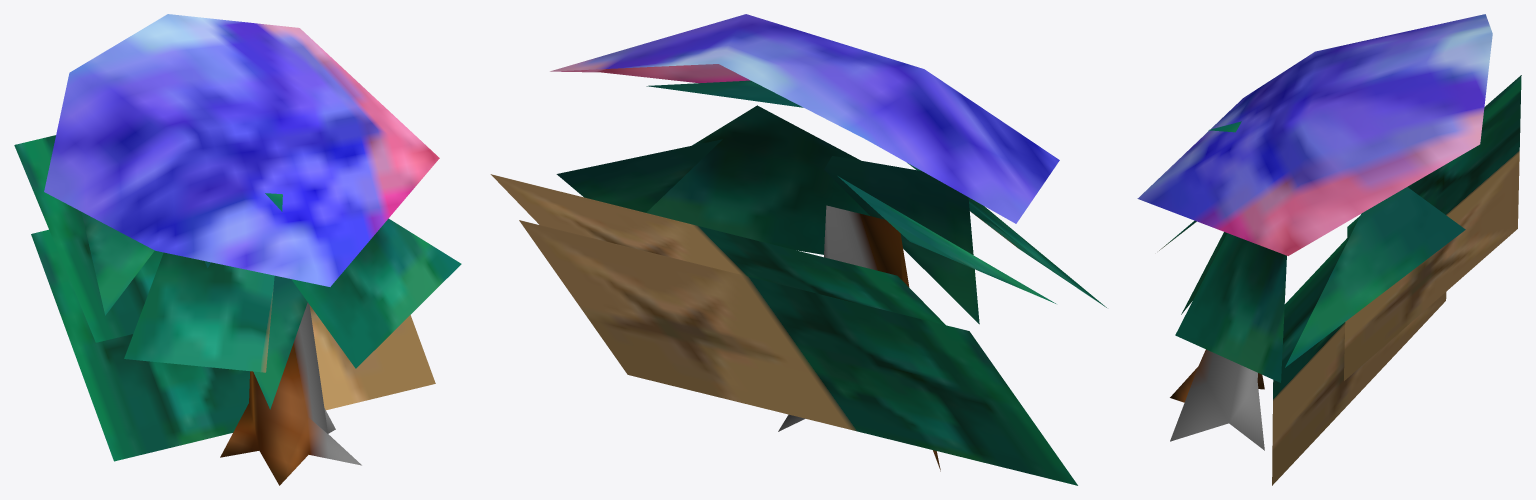
Rendered from fg_bushC_1_s.dae.
The picture shows the model from 3 angles, left to right: view 1: azimuth 30°, elevation 25°; view 2: azimuth 150°, elevation 25°; view 3: azimuth 270°, elevation 25°; orthographic projection. The views are drawn at different scales.
Parts seen in each view (by area): view 1: fg_bushC_1_s; view 2: fg_bushC_1_s; view 3: fg_bushC_1_s.
Part boxes in pixels (bbox=[...]): fg_bushC_1_s: bbox=[14, 14, 461, 485]; fg_bushC_1_s: bbox=[490, 14, 1106, 485]; fg_bushC_1_s: bbox=[1137, 14, 1521, 485].
Bounding box in the file's own units: 31.21 × 29 × 26.29.
Materials: 1 (1 with a texture image).
